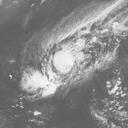cyclone: (45, 40, 85, 80)
